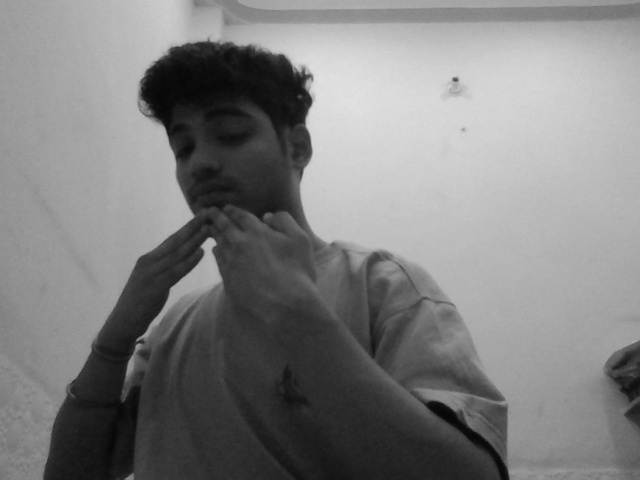Thanks: (108, 183, 385, 348)
